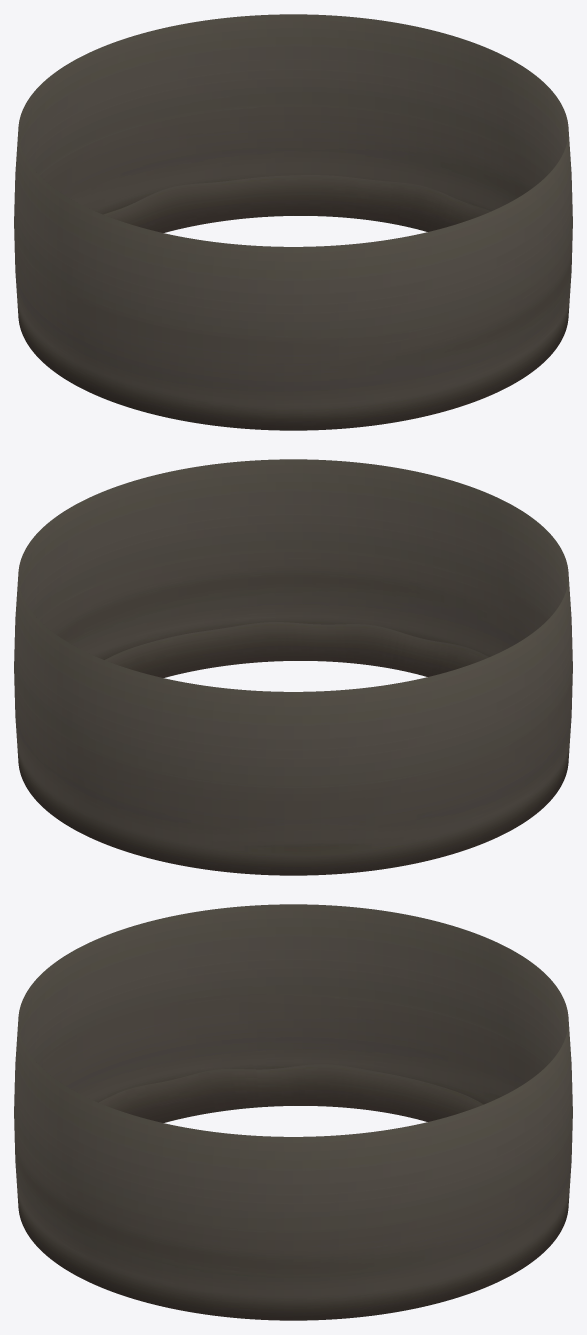
The model's file is claim-panorama-lossless.glb.
The picture shows the model from 3 angles, top to bottom: view 1: azimuth 30°, elevation 25°; view 2: azimuth 150°, elevation 25°; view 3: azimuth 270°, elevation 25°; orthographic projection.
Visible parts, largest first — view 1: TheClaimPanorama; view 2: TheClaimPanorama; view 3: TheClaimPanorama.
Part boxes in pixels (left/top/right/bottom): TheClaimPanorama: left=14, top=14, right=572, bottom=430; TheClaimPanorama: left=14, top=459, right=572, bottom=875; TheClaimPanorama: left=14, top=904, right=572, bottom=1320.
Size of the model in its own units: 386 by 140 by 386.
Materials: 1 (1 with a texture image).
